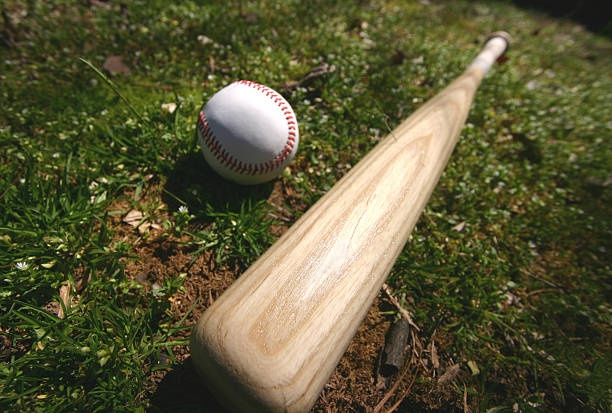bita: (189, 41, 512, 413)
